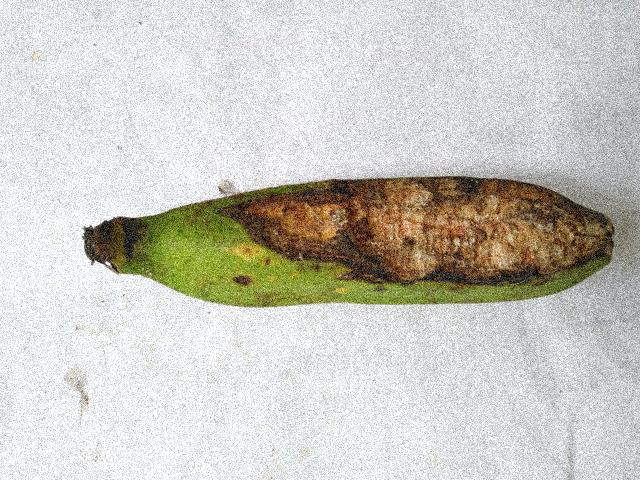rotten: (210, 161, 621, 310)
